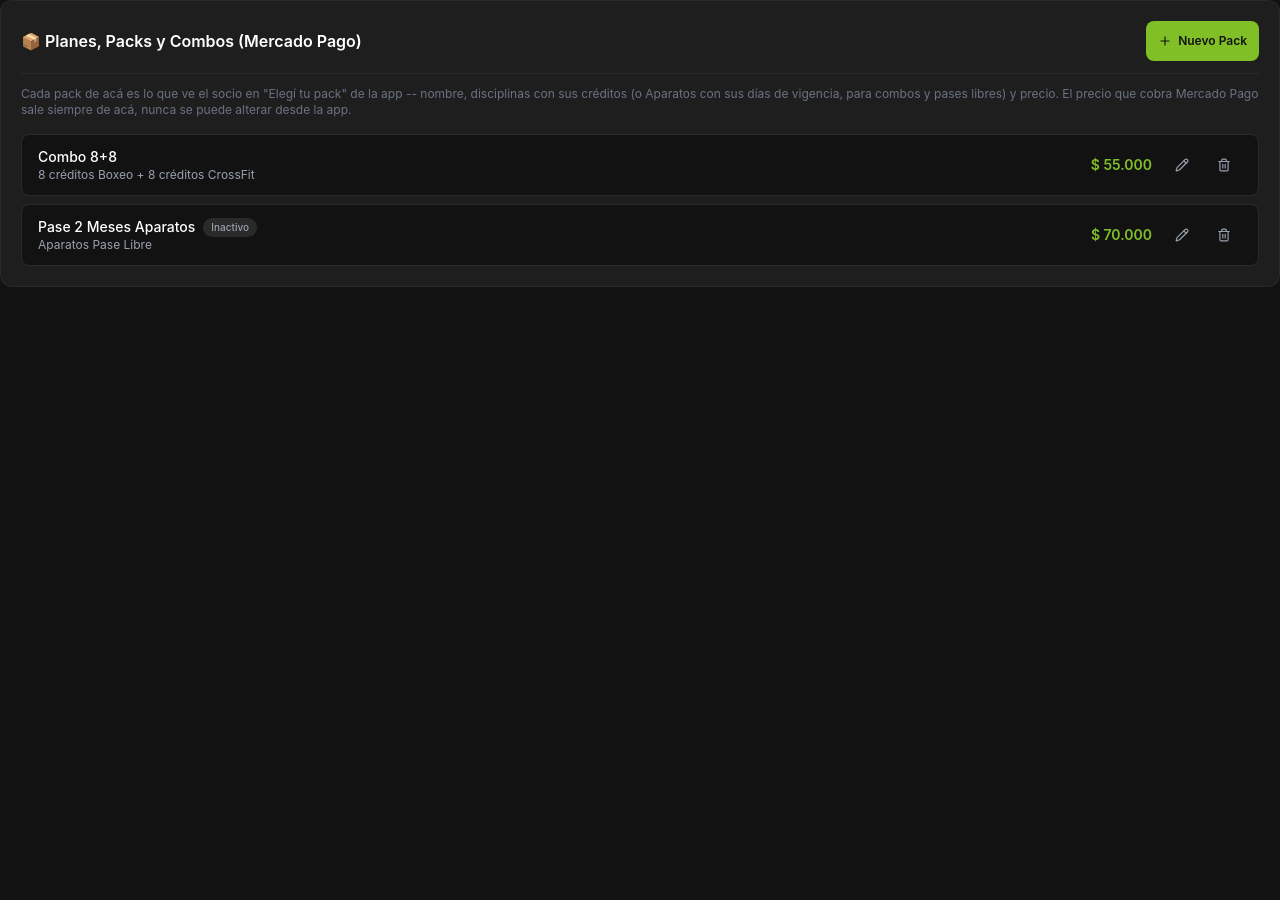
Test: PlanesPacksCard -- gestión de packs/combos en Configuración (lo que la PWA lee en "Elegí tu pack") › "Nuevo Pack" abre el modal de alta
The image size is (1280, 900).
Expected: the text "Combo 8+8" is shown, [38, 147, 117, 167]
Step 1. Click the button "Nuevo Pack" → (1203, 41), box [1146, 21, 1259, 61]
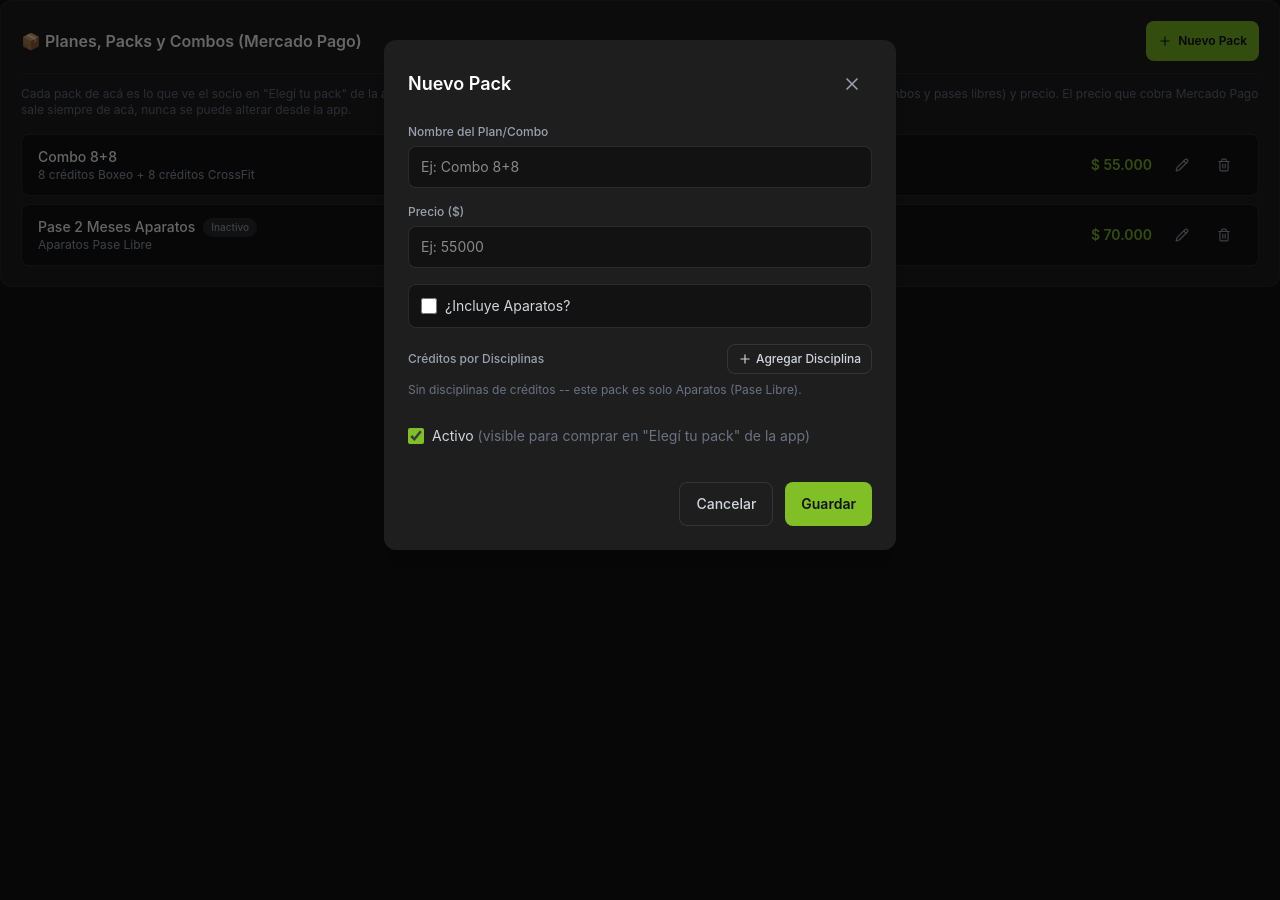
Expected: the heading "Nuevo Pack" is shown, [408, 70, 511, 98]
